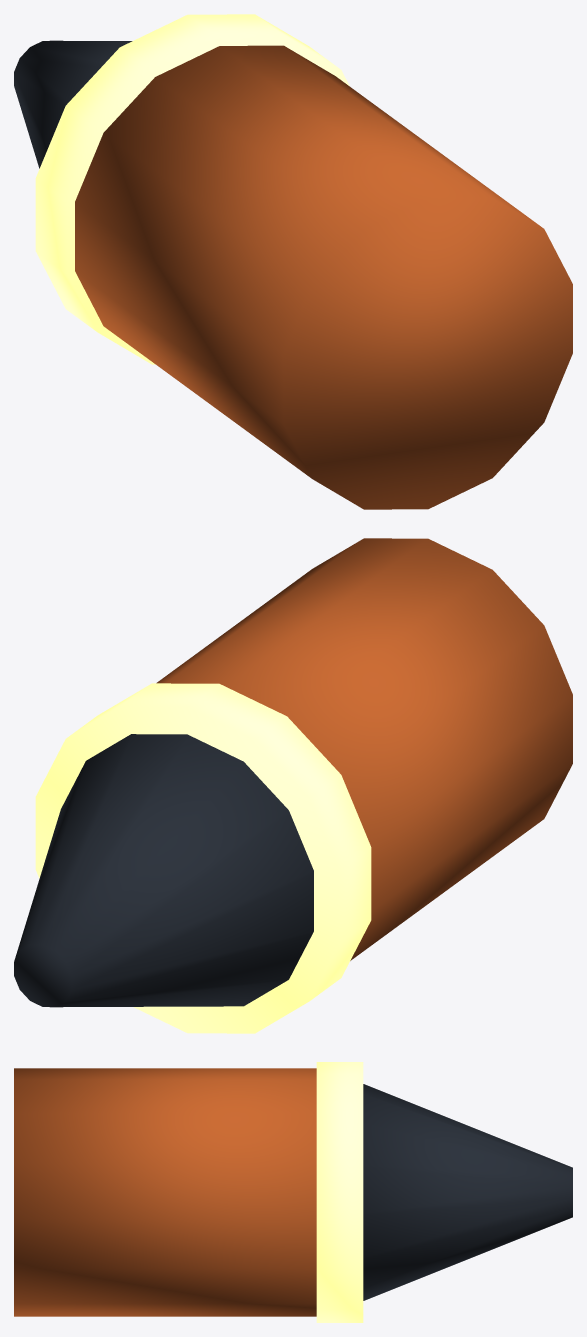
Rendered from Flak.fbx.
The picture shows the model from 3 angles, top to bottom: view 1: azimuth 30°, elevation 25°; view 2: azimuth 150°, elevation 25°; view 3: azimuth 270°, elevation 25°; orthographic projection. The views are drawn at different scales.
Parts seen in each view (by area): view 1: Copper_Case0, Emit_Fuse0, Metal_Nose0; view 2: Copper_Case0, Metal_Nose0, Emit_Fuse0; view 3: Copper_Case0, Metal_Nose0, Emit_Fuse0.
Part boxes in pixels (x1,y1,x2,y2): Copper_Case0: (75,45,572,509); Emit_Fuse0: (35,14,349,364); Metal_Nose0: (14,40,132,168); Copper_Case0: (156,538,572,960); Metal_Nose0: (14,734,313,1007); Emit_Fuse0: (35,683,371,1033); Copper_Case0: (14,1068,316,1316); Metal_Nose0: (363,1084,572,1300); Emit_Fuse0: (316,1062,363,1322).
Bounding box in the file's own units: 0.0819 × 0.18 × 0.084.
